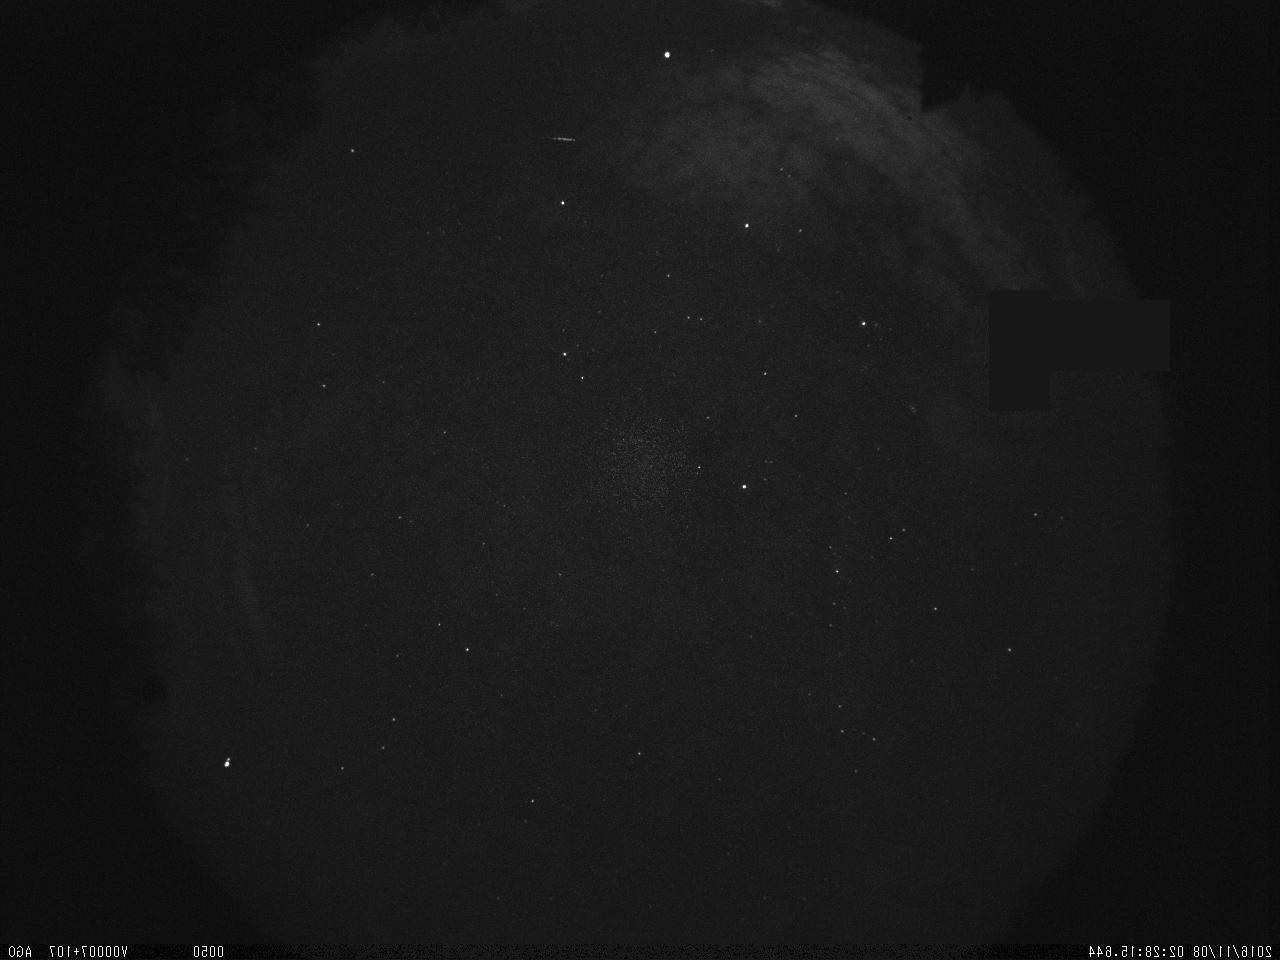meteor: (539, 132, 582, 147)
